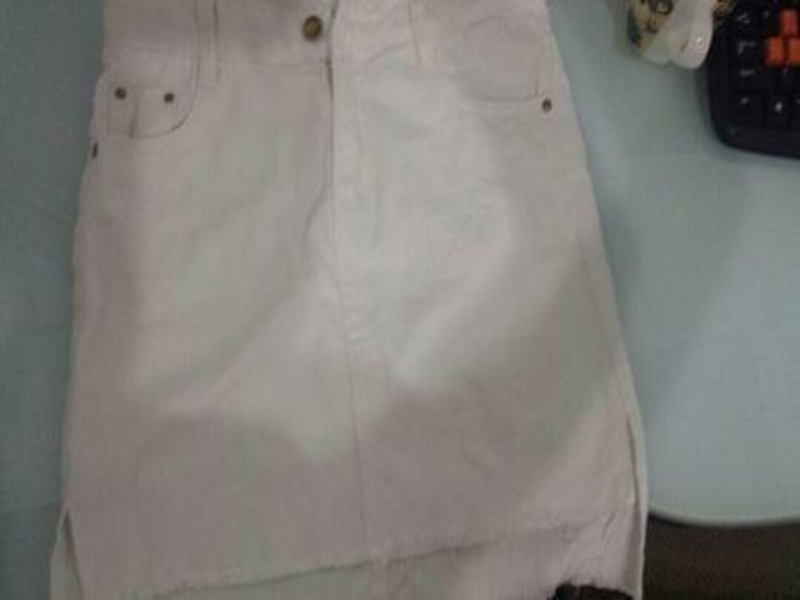skirt: (48, 0, 650, 598)
